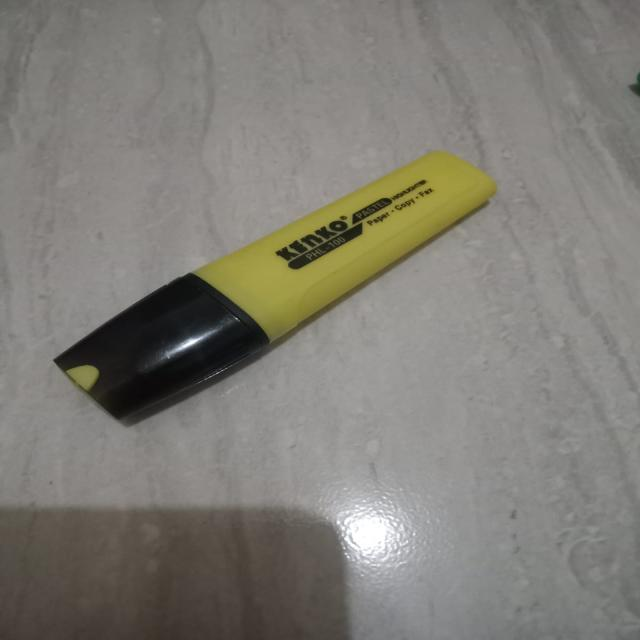highlighter: (40, 132, 573, 444)
